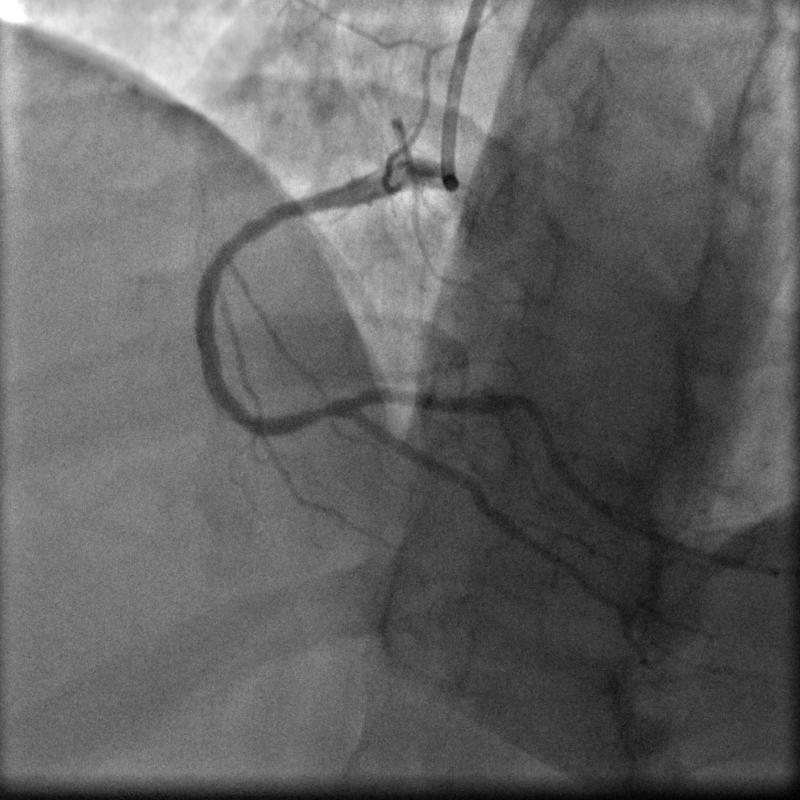Stenosis: (300, 398, 339, 423)
